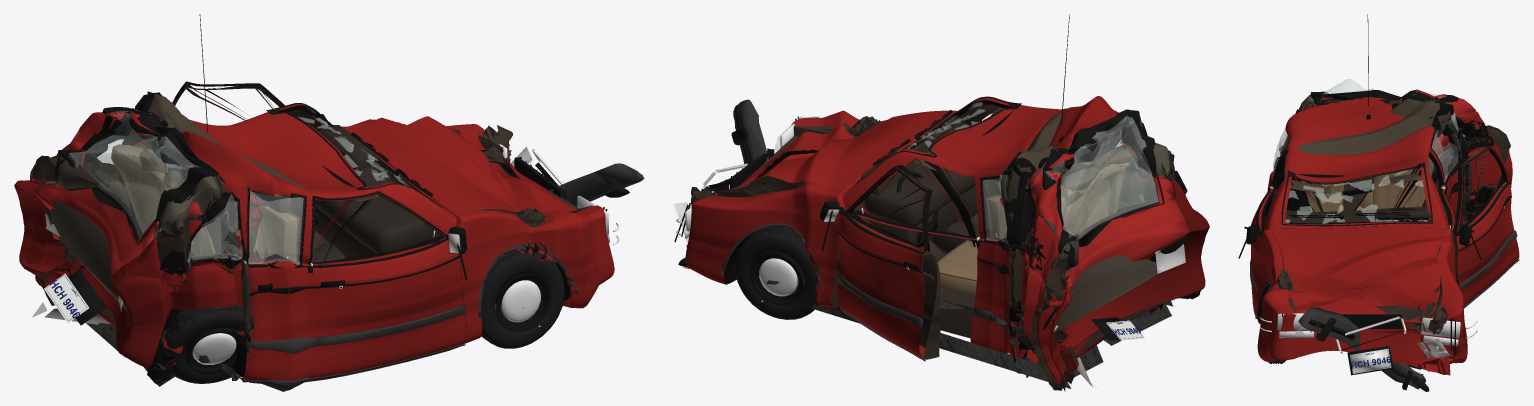
File: hatchback85_rear_d3_lod1.glb
3 views of the same model, side by side, from view 1: azimuth 30°, elevation 25°; view 2: azimuth 150°, elevation 25°; view 3: azimuth 270°, elevation 25° (orthographic). The views are drawn at different scales.
Parts seen in each view (by area): view 1: Body, Door_FR, Interior, Hatch, Hood, Glass_Hatch, Door_RR, Wheel_FR_mesh, Wheel_RR_mesh, Glass, Trim_FR, Ends (+6 smaller); view 2: Body, Interior, Hatch, Door_FL, Glass_Hatch, Hood, Wheel_FL_mesh, Door_RL, Ends, Underbody, Trim_FL, Glass (+4 smaller); view 3: Body, Hood, Door_FL, Interior, Ends, Glass, Bumper_F, Trim_FL, Hatch, Door_RL, Glass_Hatch, Door_FR (+5 smaller).
Part boxes in pixels (x1,y1,x2,y2): Body: (14,91,614,384); Door_FR: (308,191,466,376); Interior: (59,113,433,262); Hatch: (33,108,222,311); Hood: (344,116,576,220); Glass_Hatch: (56,107,216,245); Door_RR: (235,186,320,380); Wheel_FR_mesh: (481,251,564,348); Wheel_RR_mesh: (164,304,254,383); Glass: (86,103,442,272); Trim_FR: (309,191,467,380); Ends: (44,144,619,325); Body: (683,96,1209,391); Interior: (861,107,1144,295); Hatch: (1031,111,1190,332); Door_FL: (837,165,940,359); Glass_Hatch: (1042,109,1164,270); Hood: (712,112,952,197); Wheel_FL_mesh: (735,227,816,319); Door_RL: (970,157,1036,362); Ends: (674,116,1187,340); Underbody: (766,280,1173,388); Trim_FL: (820,166,933,361); Glass: (855,96,1148,270); Body: (1255,97,1512,375); Hood: (1271,226,1443,326); Door_FL: (1452,145,1519,306); Interior: (1285,152,1443,223); Ends: (1259,313,1477,375); Glass: (1279,109,1494,226); Bumper_F: (1298,307,1429,391); Trim_FL: (1449,146,1519,308); Hatch: (1298,89,1475,150); Door_RL: (1430,101,1467,229); Glass_Hatch: (1310,79,1467,143); Door_FR: (1250,153,1285,312).
Bounding box in the file's own units: 3.42 × 2.2 × 2.19.
32 materials, 5 textured.
